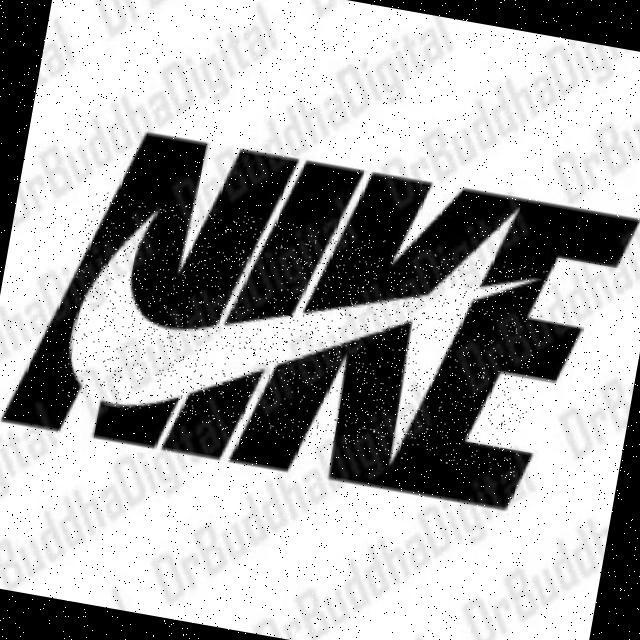Nike: (55, 188, 553, 479)
